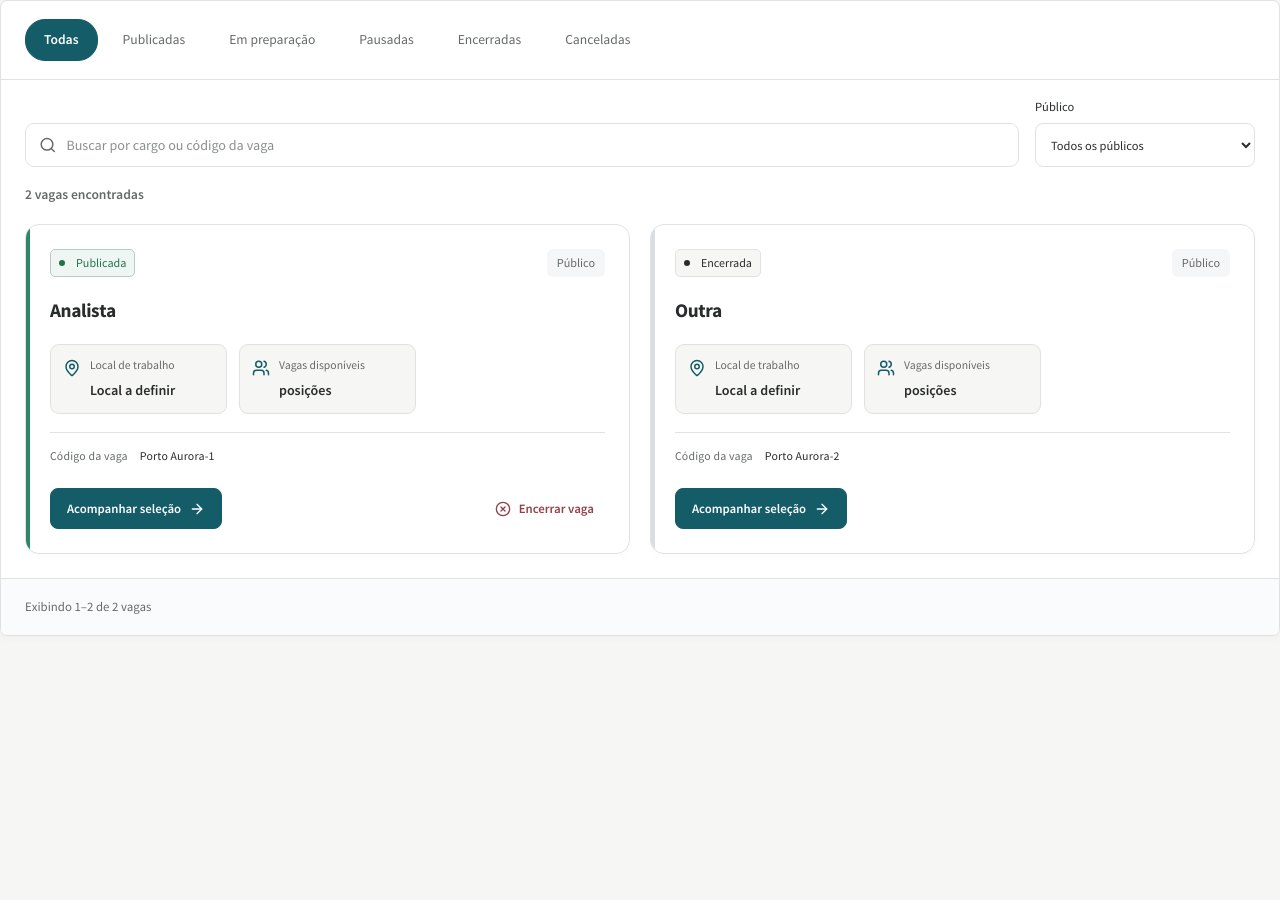
requires confirmation and a reason before closing the chosen vacancy
Click the button with aria-label "Encerrar vaga Analista": [544, 509] box [484, 489, 605, 529]
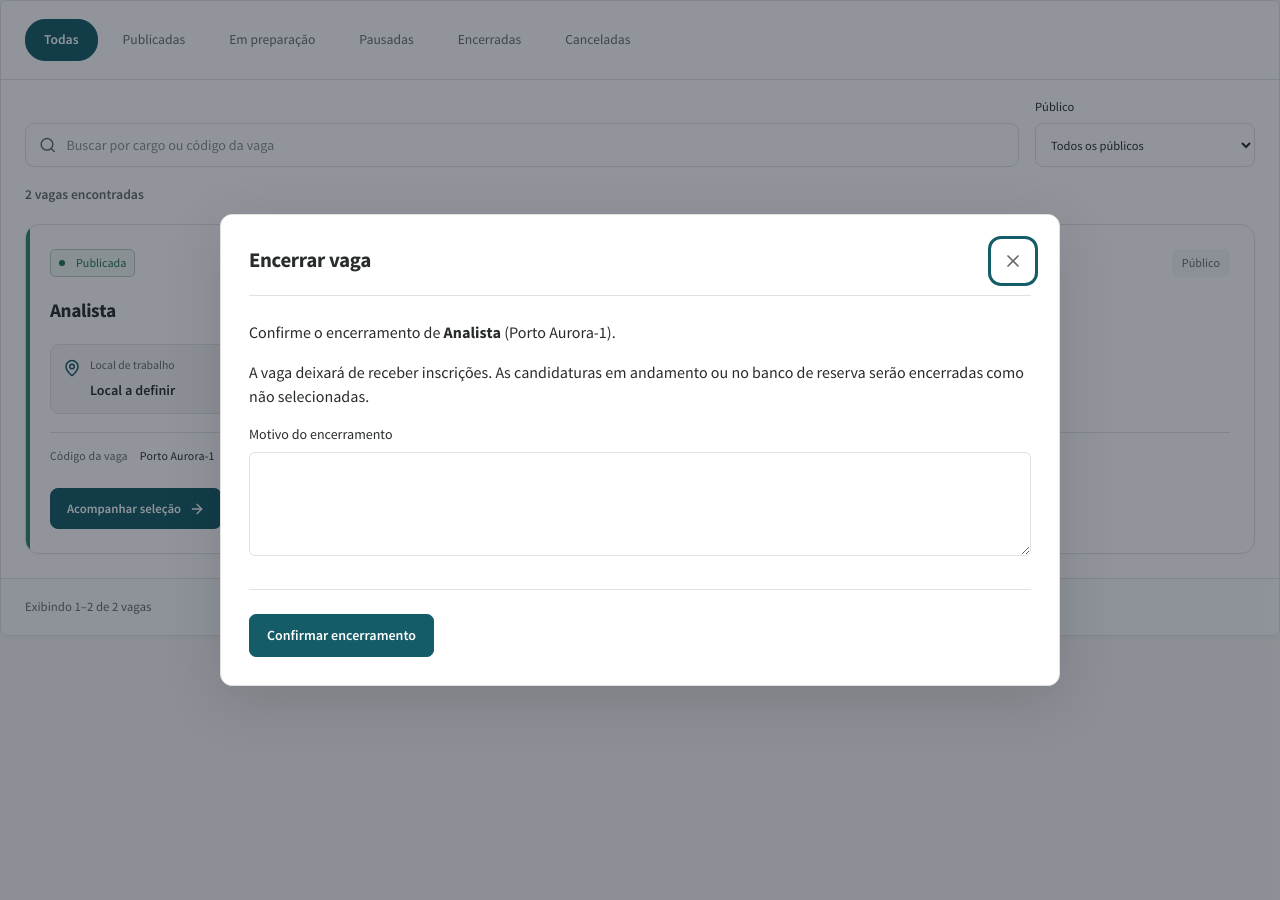
In the text box labelled "Motivo do encerramento": [640, 504] box [249, 452, 1031, 556], type "Processo concluido"
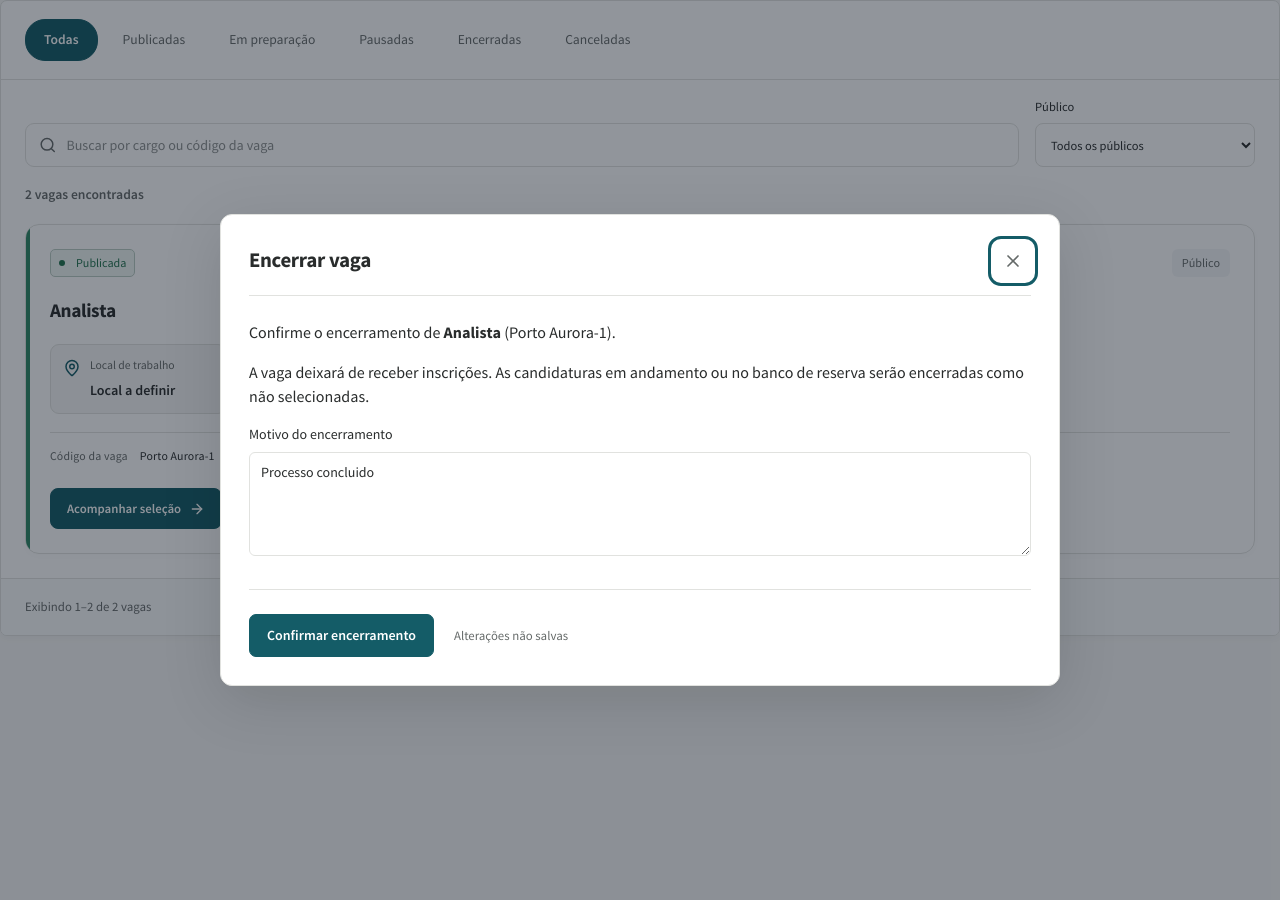
Click the button "Confirmar encerramento": [342, 636] box [249, 614, 434, 657]
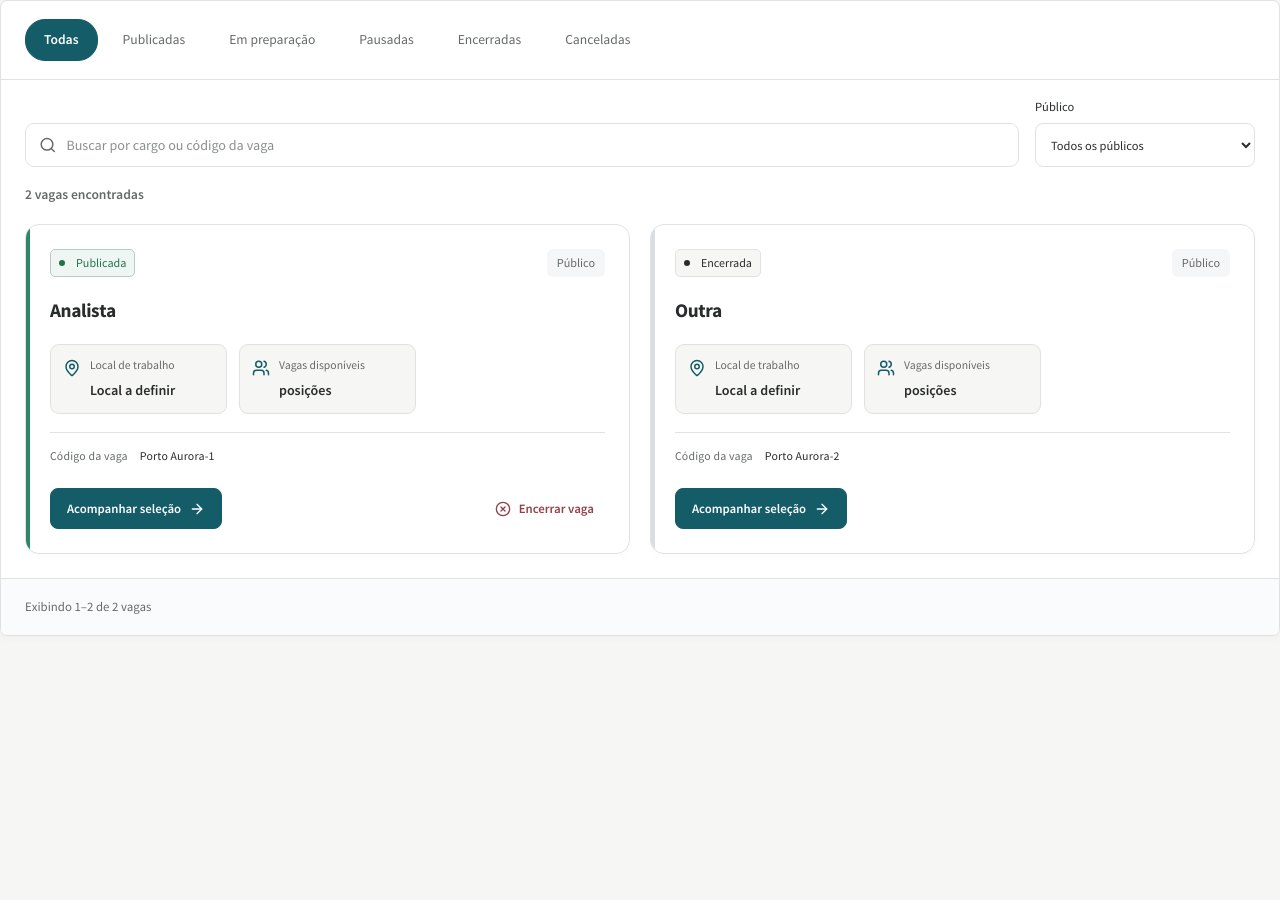
Check: the dialog is gone
